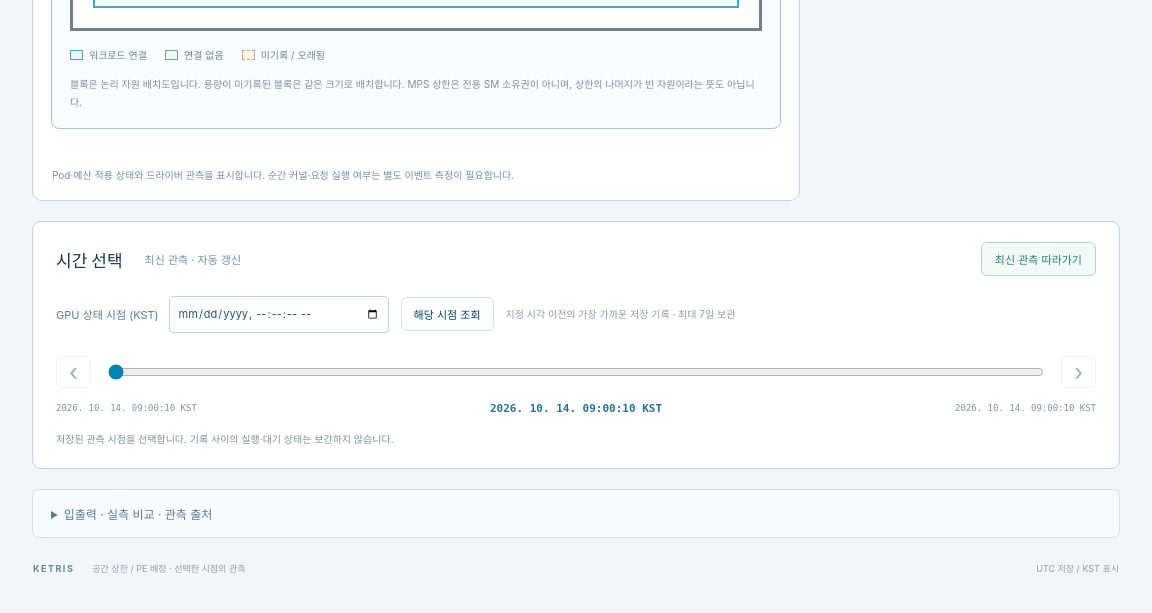
Test case: rewinds the whole GPU inventory to a chosen KST time beyond the recent slider
(page scrolled)
In the field labelled "GPU 상태 시점 (KST)": (279, 314) left=169, top=296, right=389, bottom=333, type "2026-10-13T09:00:15"
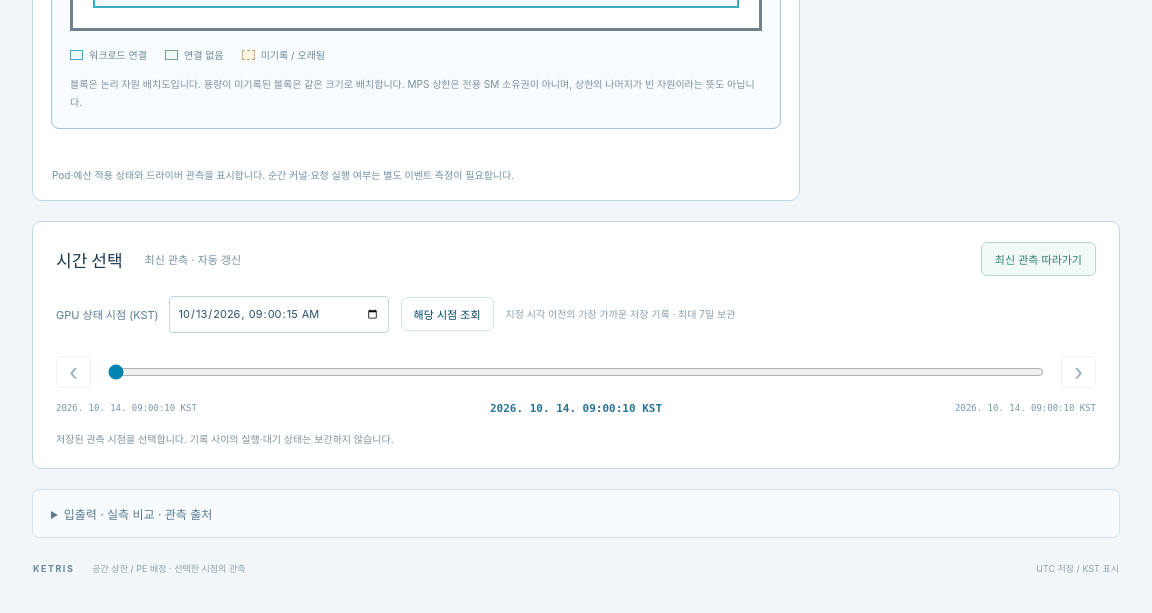
Click the button "해당 시점 조회": (447, 314) left=401, top=297, right=494, bottom=331
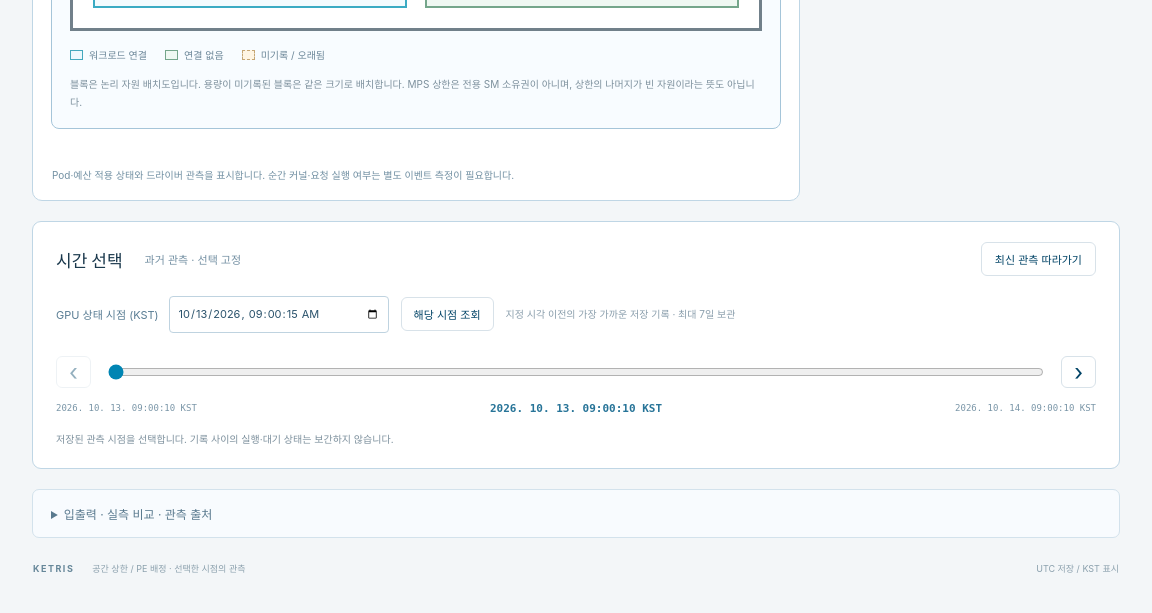
Click the button "최신 관측 따라가기": (1038, 259) left=981, top=242, right=1096, bottom=276
(page scrolled)
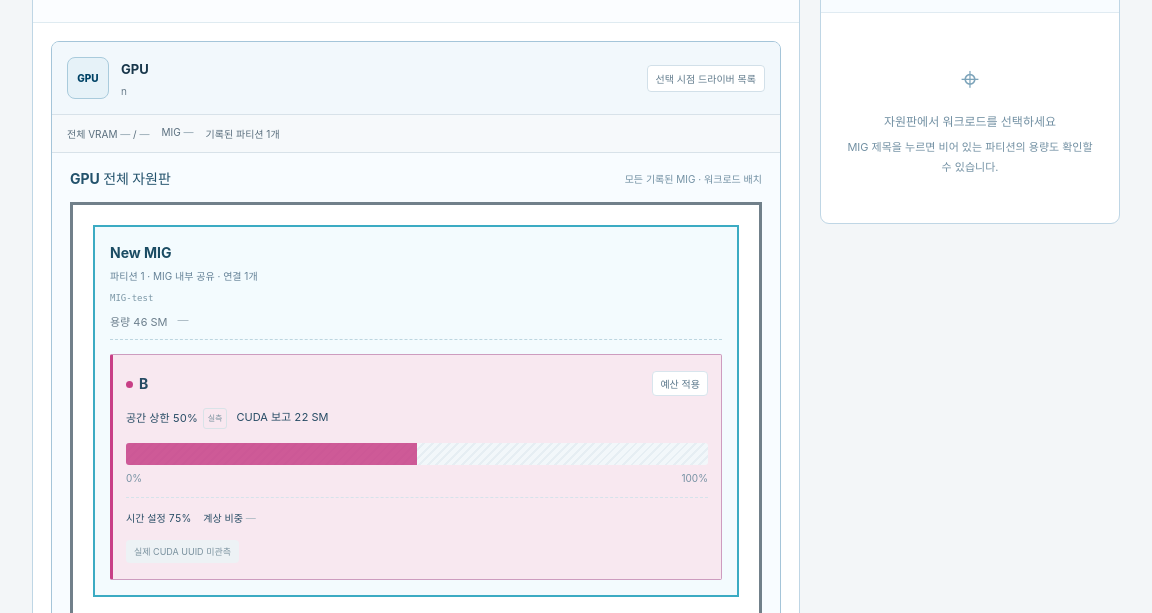
Expected: the text "New MIG" is shown, left=110, top=244, right=172, bottom=261
